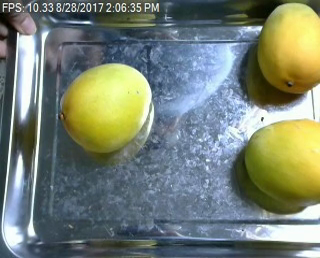Mango: (56, 61, 154, 157), (242, 116, 320, 209), (255, 2, 320, 95)
